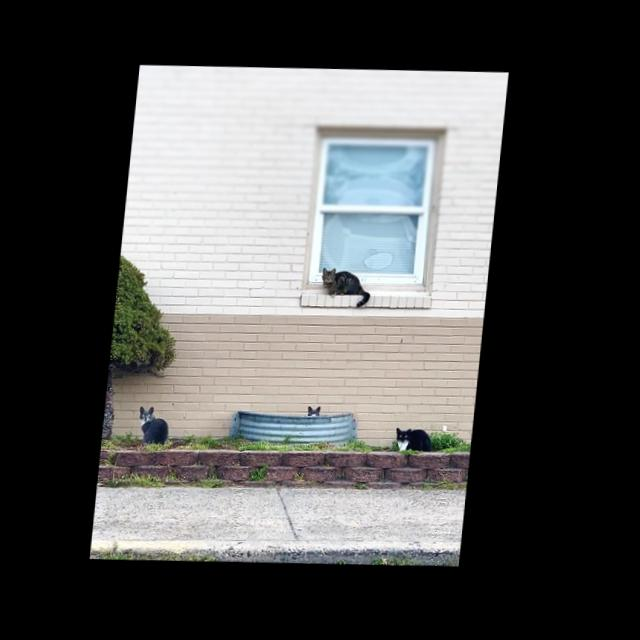animals: (320, 266, 378, 312), (141, 404, 176, 444), (400, 426, 440, 456), (311, 403, 328, 419)
